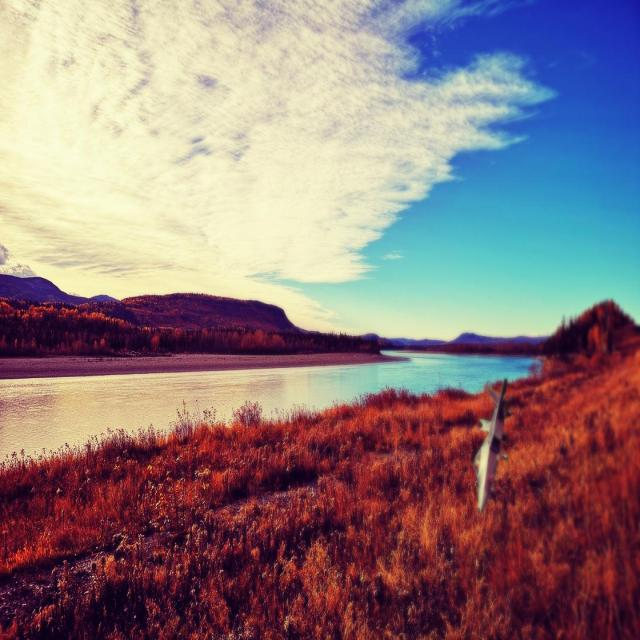airplane: (472, 378, 512, 512)
